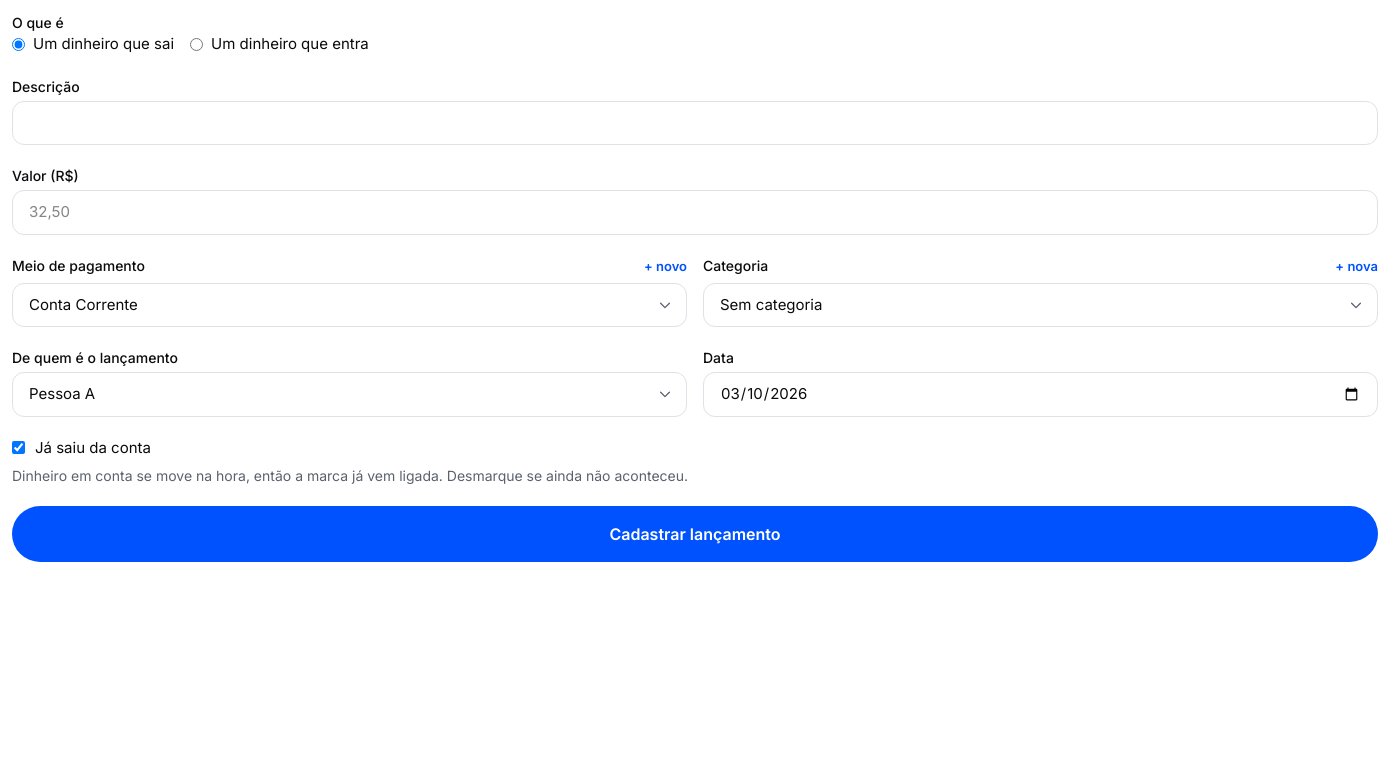
Scenario: FormLancamentoAvulso — o padrão da caixa vem do meio (AVUL-02, AC 4 e 5) › volta a marcar ao escolher conta corrente de novo
The image size is (1390, 780).
Select "Cartão Roxo" in the dropdown labelled "Meio de pagamento" at (350, 305), box [12,282,687,327]
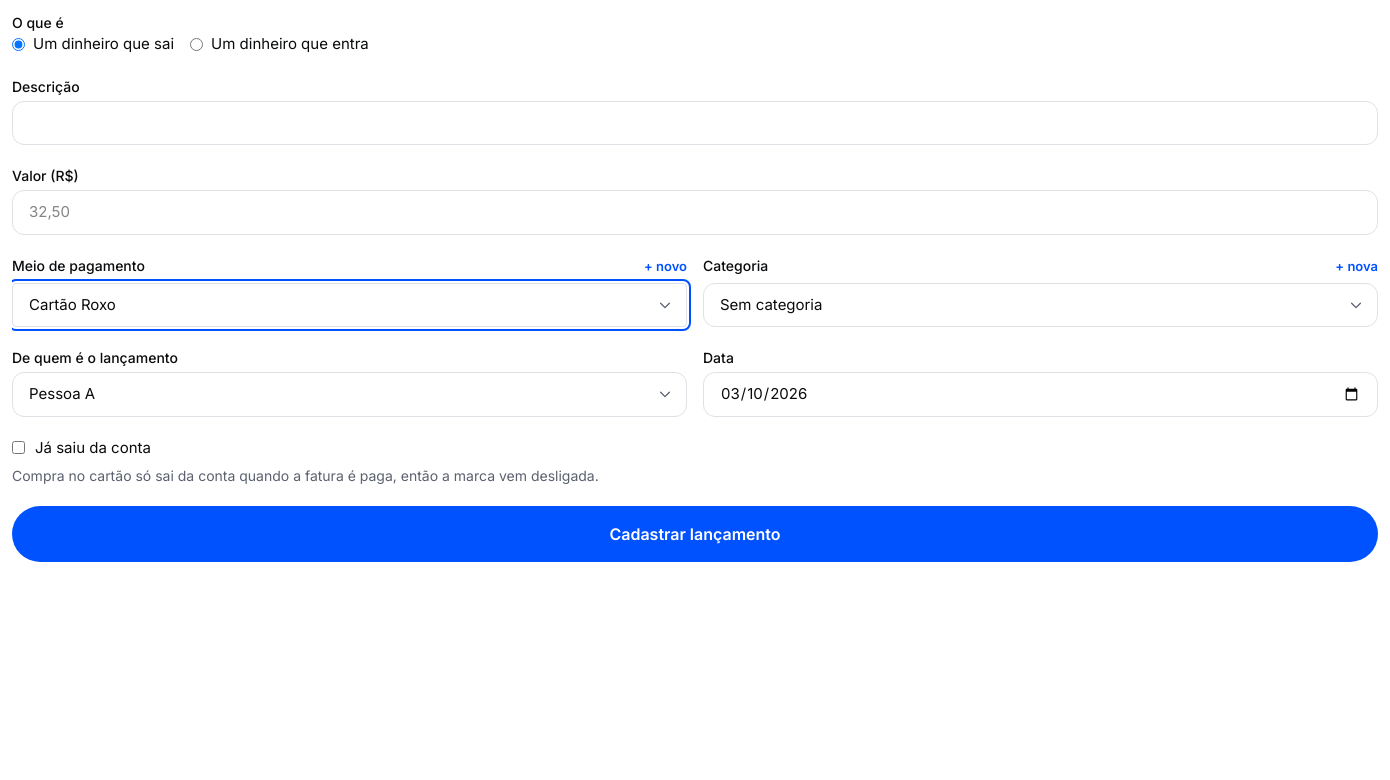
Select "Conta Corrente" in the dropdown labelled "Meio de pagamento" at (350, 305), box [12,282,687,327]
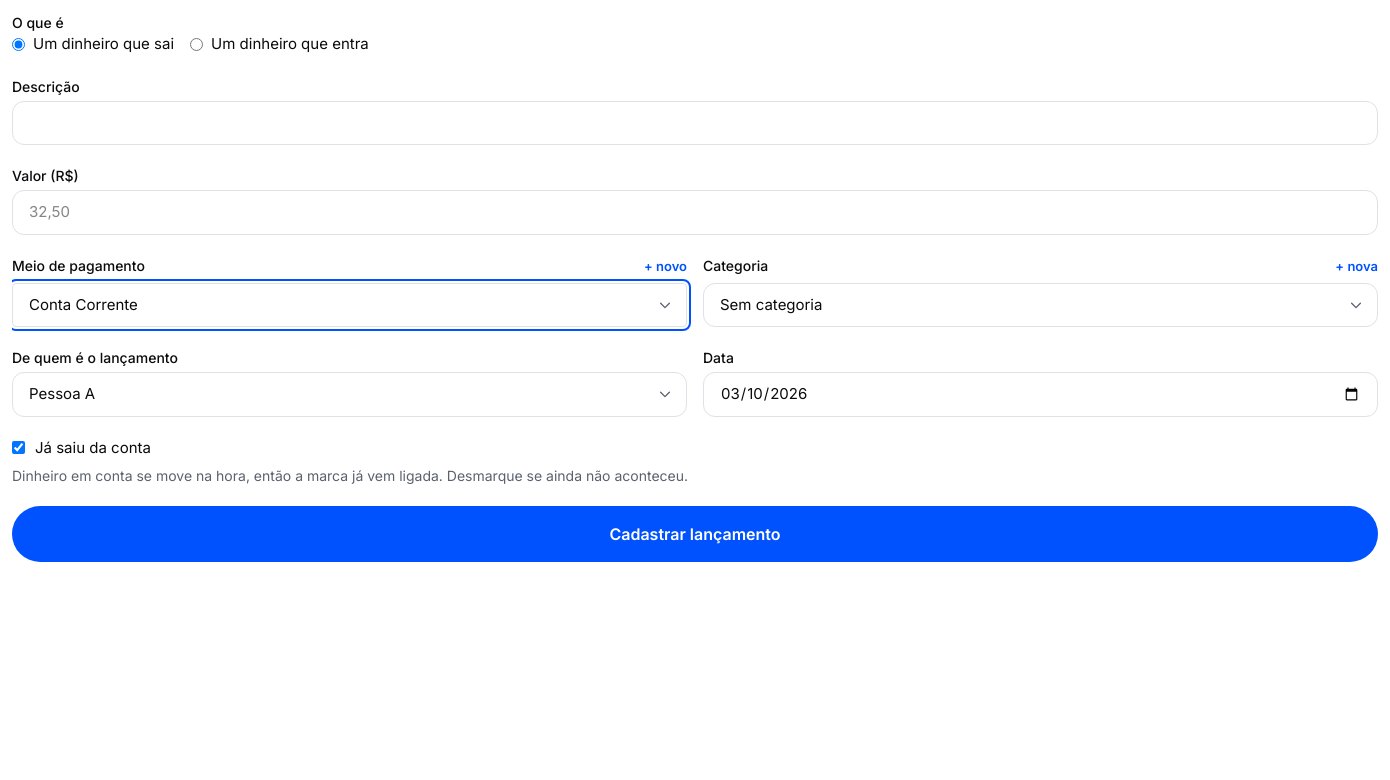
Now the checkbox is checked, box [12,441,25,454]
